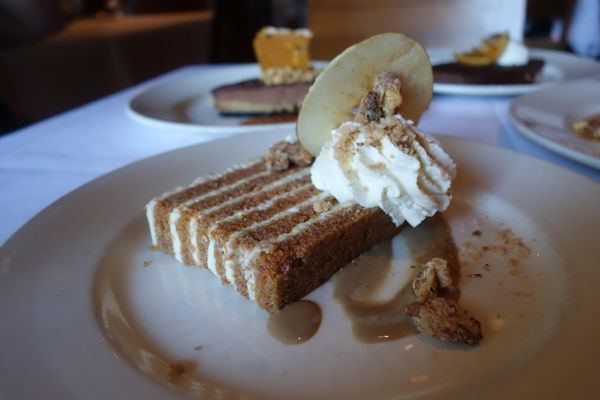curry: (2, 18, 596, 395)
sushi: (145, 28, 458, 312), (144, 136, 405, 312), (210, 24, 323, 115)
